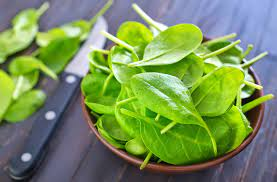spinach: (125, 46, 224, 133)
